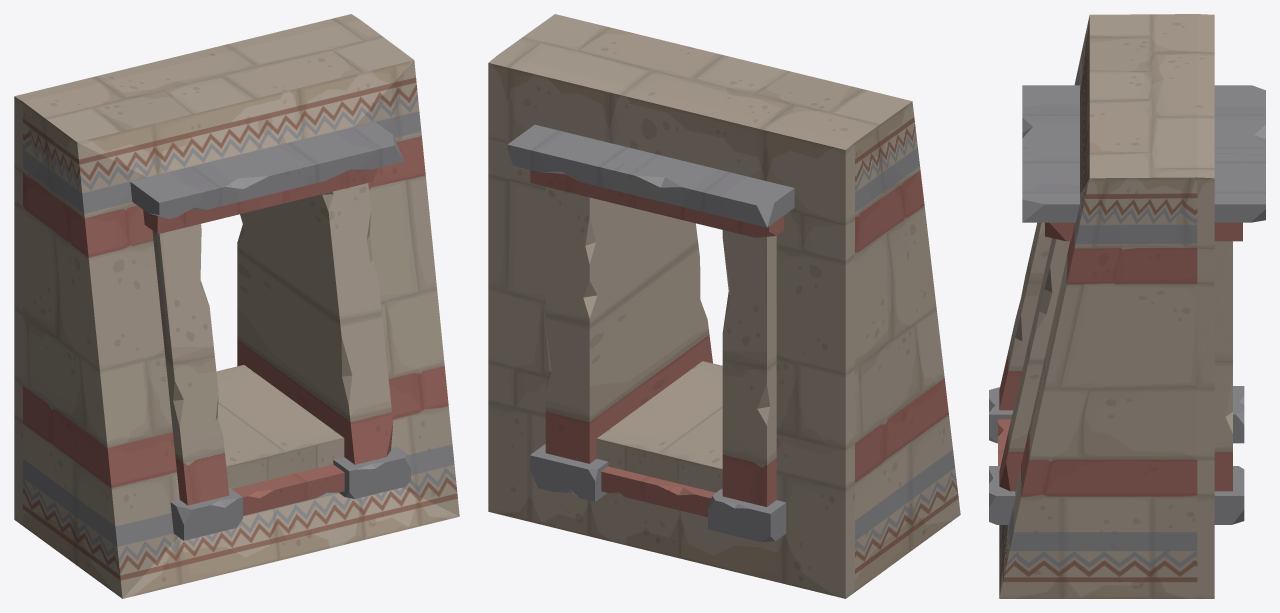
The model's file is SM_Bld_Wall_Temple_Ground_Window_02.fbx.
The picture shows the model from 3 angles, left to right: view 1: azimuth 30°, elevation 25°; view 2: azimuth 150°, elevation 25°; view 3: azimuth 270°, elevation 25°; orthographic projection. The views are drawn at different scales.
Parts seen in each view (by area): view 1: SM_Bld_Wall_Temple_Ground_Window_02; view 2: SM_Bld_Wall_Temple_Ground_Window_02; view 3: SM_Bld_Wall_Temple_Ground_Window_02.
Part boxes in pixels (bbox=[...]): SM_Bld_Wall_Temple_Ground_Window_02: bbox=[14, 14, 459, 598]; SM_Bld_Wall_Temple_Ground_Window_02: bbox=[488, 14, 960, 598]; SM_Bld_Wall_Temple_Ground_Window_02: bbox=[989, 14, 1265, 598].
Bounding box in the file's own units: 500 × 601 × 358.
